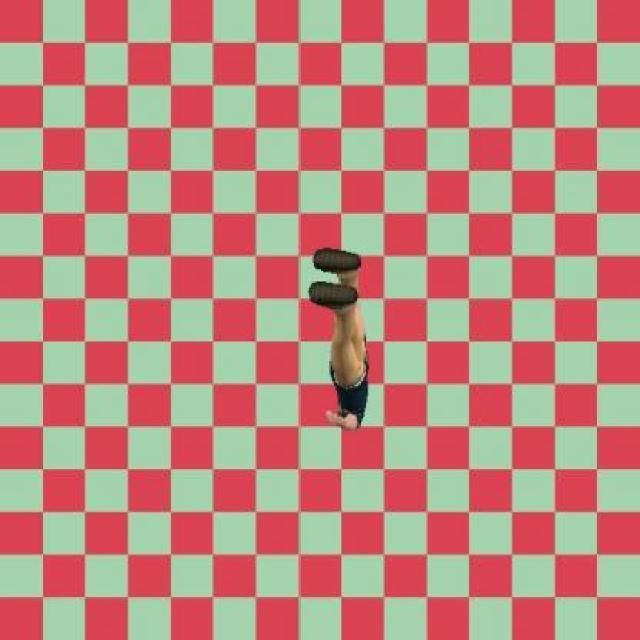Person: (305, 240, 373, 438)
